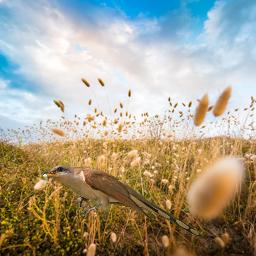Cuckoo: (38, 164, 203, 237)
